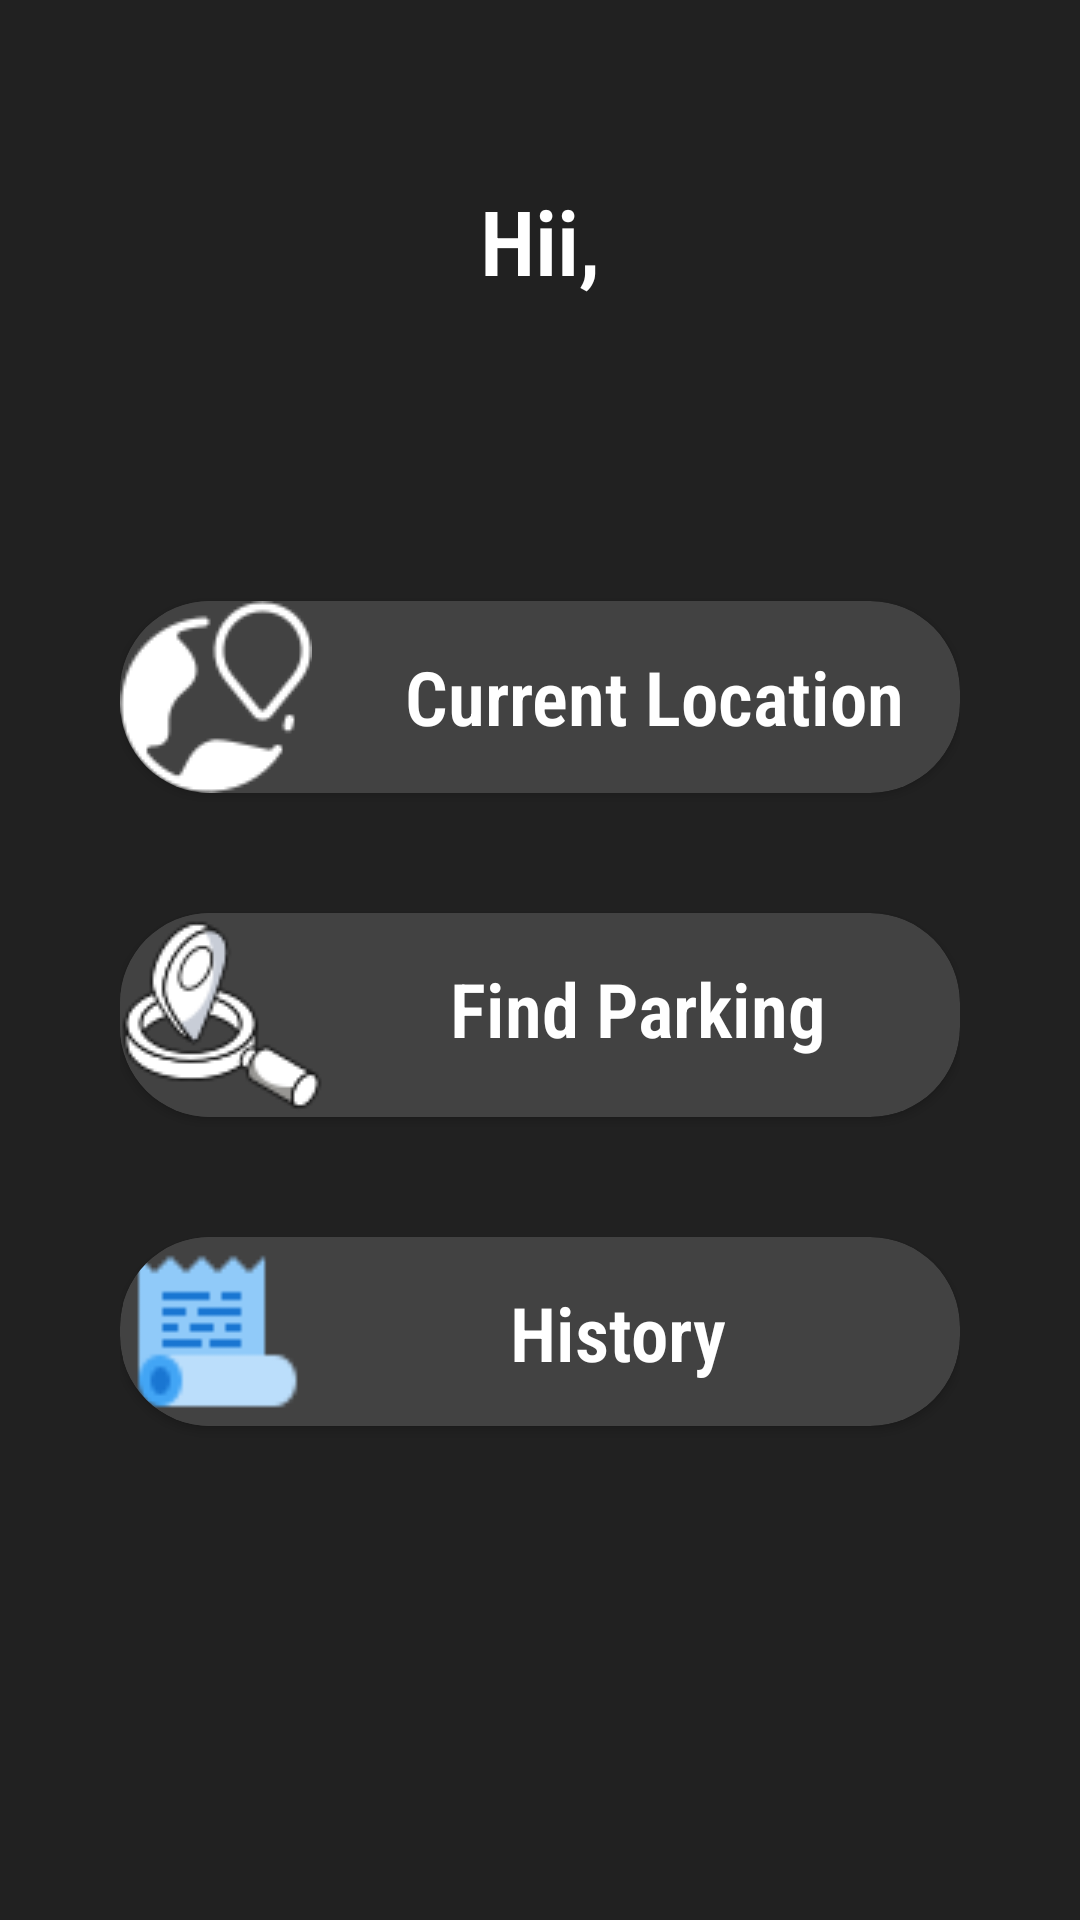

Locate icon controls on the screen. Image size 1080*1920, boxes as (x1, y1, x2, y2).
history: (120, 1237, 315, 1426)
search location: (120, 913, 324, 1117)
